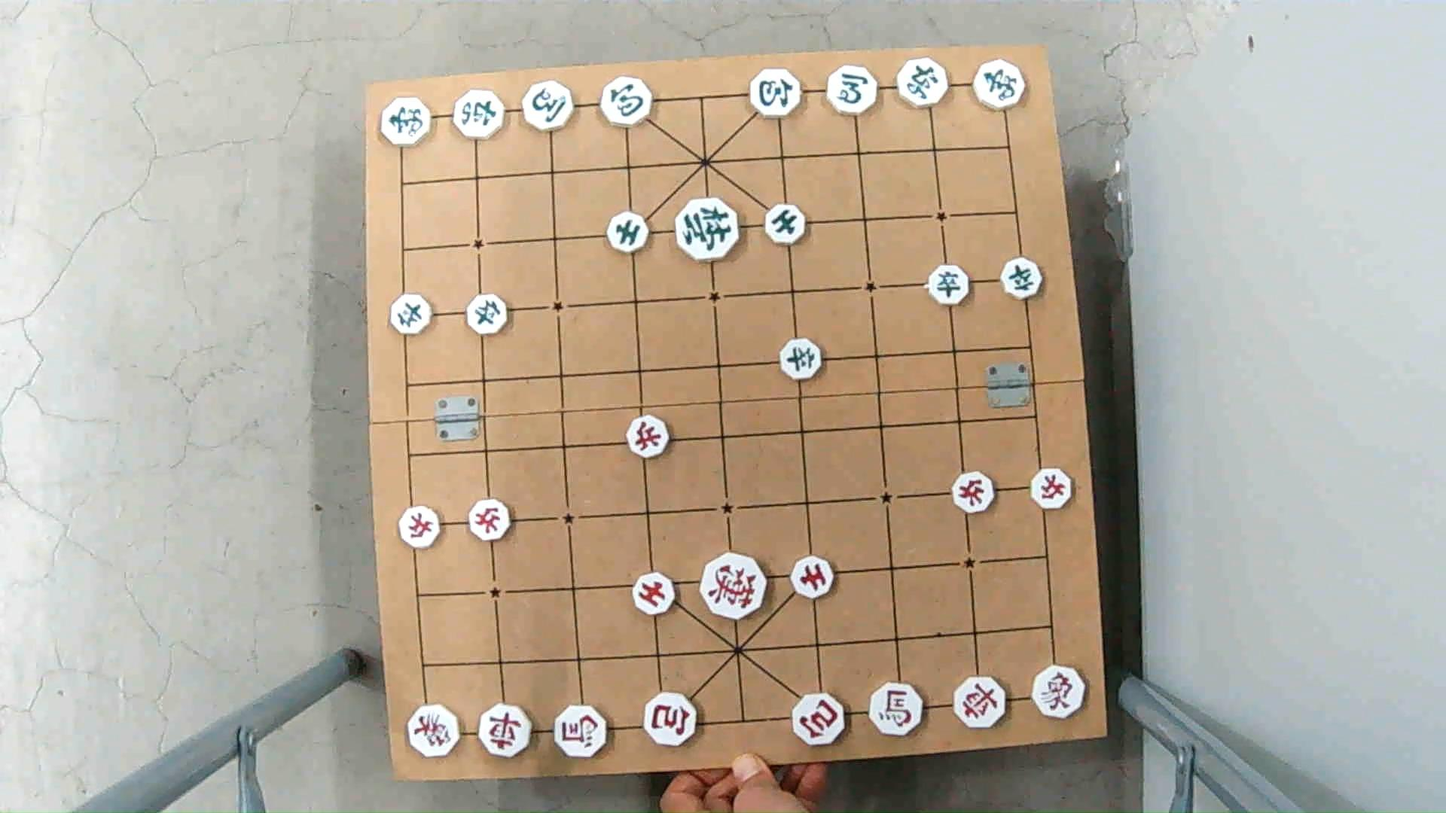cha_green: (452, 90, 508, 136), (894, 62, 949, 108)
cha_red: (477, 705, 535, 755), (951, 680, 1009, 728)
jol_green: (778, 342, 826, 379), (927, 266, 975, 303), (388, 296, 435, 333), (465, 296, 511, 333), (1000, 260, 1046, 297)
jol_red: (948, 473, 998, 514), (625, 416, 673, 457), (1028, 470, 1078, 507), (467, 504, 515, 541), (397, 507, 444, 544)
ma_green: (825, 69, 883, 114), (520, 87, 576, 132)
ma_red: (554, 707, 614, 757), (862, 687, 923, 736)
po_green: (598, 81, 658, 125), (751, 72, 803, 116)
po_red: (641, 693, 701, 744), (789, 695, 847, 744)
sa_green: (759, 205, 807, 246), (608, 215, 655, 251)
sa_red: (630, 573, 681, 614), (793, 553, 837, 600)
sang_green: (378, 99, 433, 147), (973, 62, 1028, 109)
sang_red: (404, 702, 462, 756), (1031, 668, 1090, 714)
wang_green: (673, 202, 741, 257)
wang_red: (700, 553, 771, 620)
